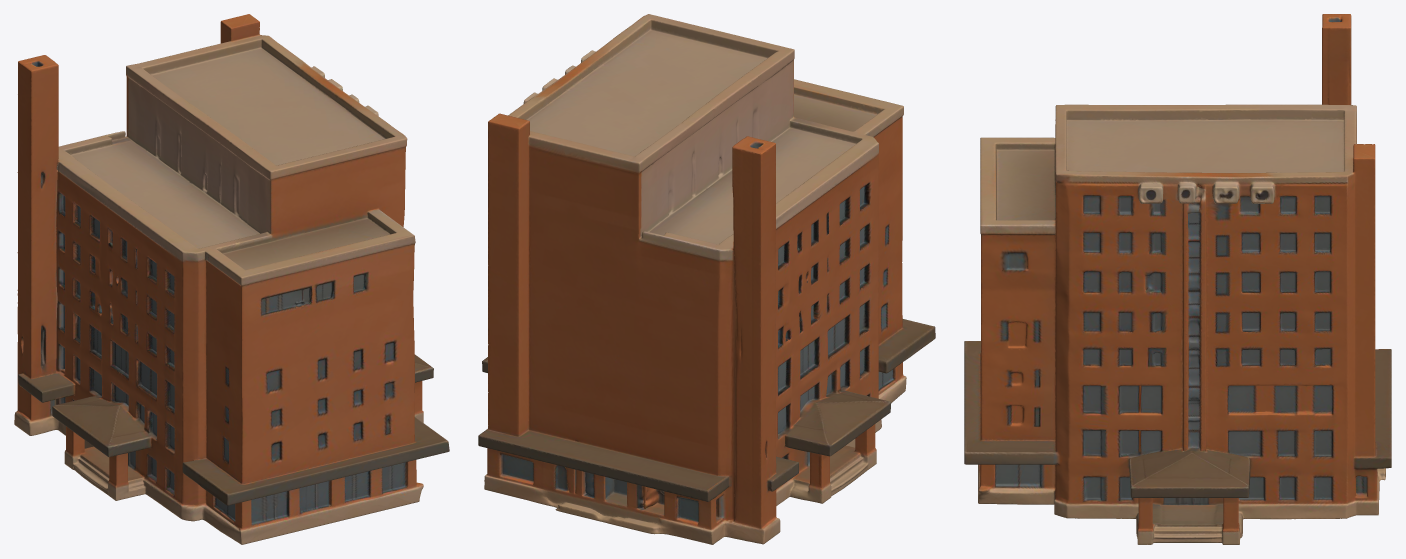
Rendered from hamilton-hotel.glb.
3 renders of one model, left to right at view 1: azimuth 30°, elevation 25°; view 2: azimuth 150°, elevation 25°; view 3: azimuth 270°, elevation 25°, orthographic. The views are drawn at different scales.
Parts seen in each view (by area): view 1: tripo_node_d9ef880d-68e4-440f-bfa4-0974e3ce59e1; view 2: tripo_node_d9ef880d-68e4-440f-bfa4-0974e3ce59e1; view 3: tripo_node_d9ef880d-68e4-440f-bfa4-0974e3ce59e1.
Part boxes in pixels (left/top/right/bottom): tripo_node_d9ef880d-68e4-440f-bfa4-0974e3ce59e1: left=14, top=14, right=449, bottom=544; tripo_node_d9ef880d-68e4-440f-bfa4-0974e3ce59e1: left=478, top=14, right=935, bottom=544; tripo_node_d9ef880d-68e4-440f-bfa4-0974e3ce59e1: left=964, top=14, right=1391, bottom=544.
Bounding box in the file's own units: 0.9142 × 0.9751 × 1.
Materials: 1 (1 with a texture image).
